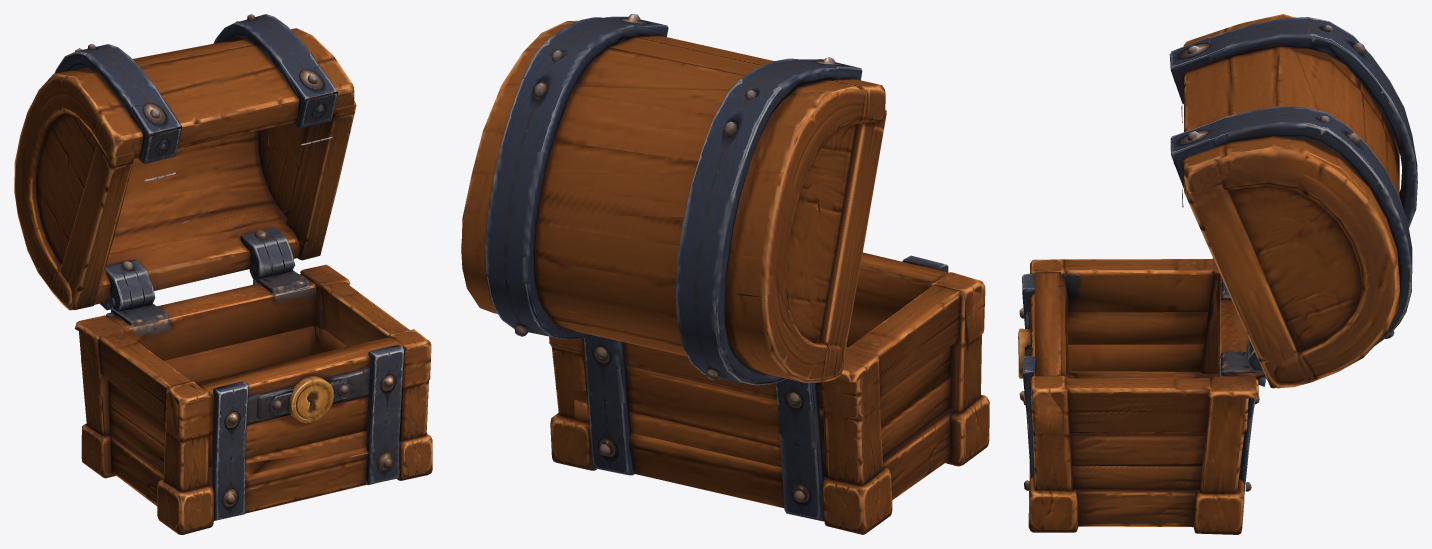
The model's file is cofre_anim.glb.
The picture shows the model from 3 angles, left to right: view 1: azimuth 30°, elevation 25°; view 2: azimuth 150°, elevation 25°; view 3: azimuth 270°, elevation 25°; orthographic projection. The views are drawn at different scales.
Parts seen in each view (by area): view 1: cofre_tapa, cofre_cuerpo; view 2: cofre_tapa, cofre_cuerpo; view 3: cofre_tapa, cofre_cuerpo.
Boxes of the visible parts, x1,y1,x2,y2 form: cofre_tapa: [14, 14, 356, 339]; cofre_cuerpo: [79, 136, 432, 534]; cofre_tapa: [461, 14, 886, 385]; cofre_cuerpo: [549, 252, 989, 534]; cofre_tapa: [1169, 14, 1417, 398]; cofre_cuerpo: [1018, 105, 1259, 534].
Bounding box in the file's own units: 0.7999 × 1.12 × 0.999.
1 material, 1 textured.
